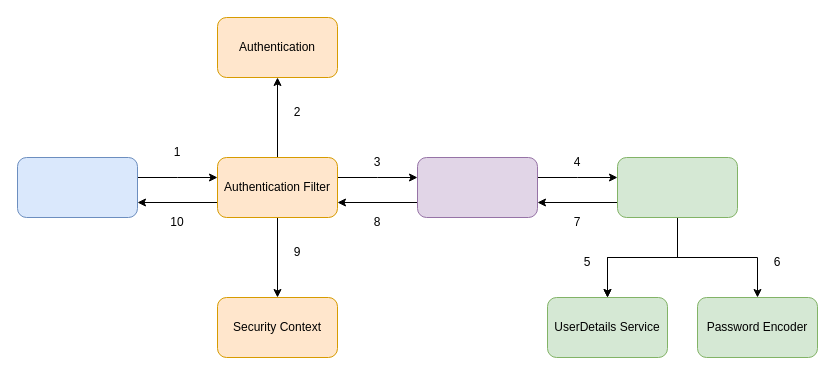
The diagram is 835 pixels wide and 375 high, and some of its shapes have lost their labels. Here are the shapes that lost their labels. From the top down, the centre of each, then its label:
point 77,187: Clients
point 477,187: Authentication Manager
point 677,187: Authentication Provider
